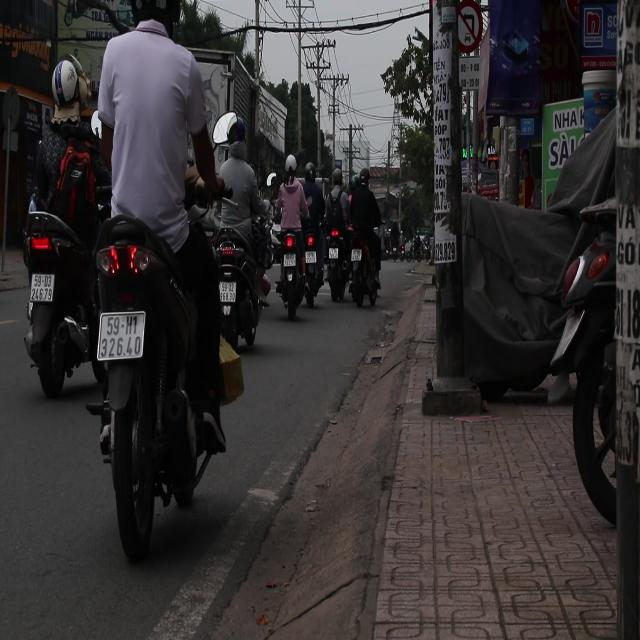motorbike: (79, 205, 237, 543), (32, 200, 92, 407), (210, 214, 270, 352), (278, 228, 306, 327)
